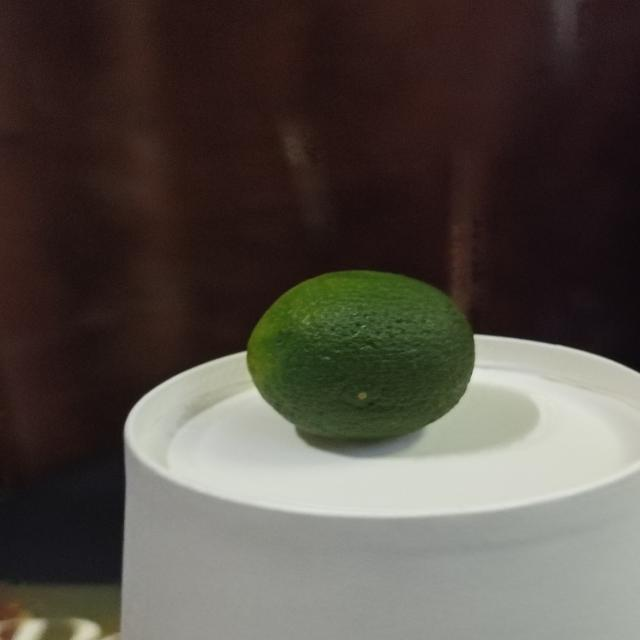heathy: (238, 262, 480, 443)
